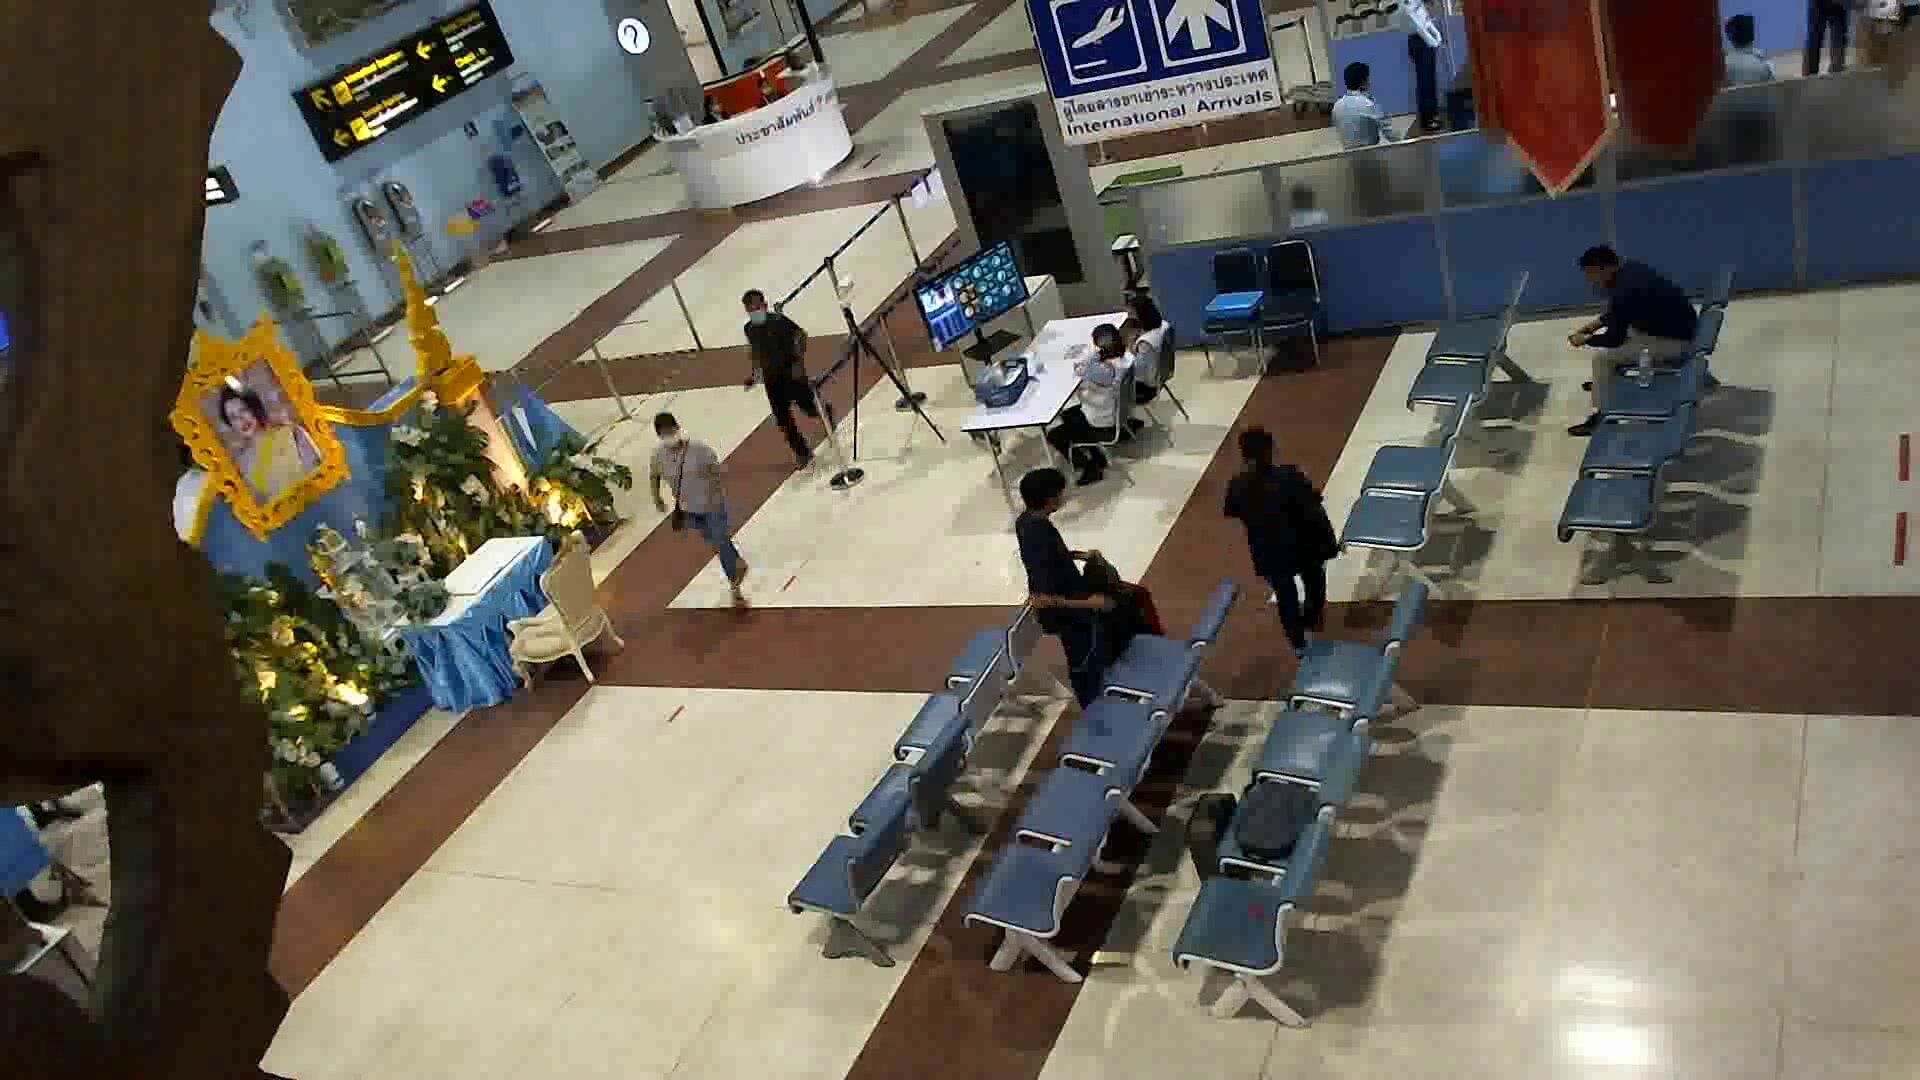backpack: (1233, 765, 1320, 863), (1078, 553, 1126, 599)
luggage: (1178, 786, 1256, 928), (1099, 576, 1164, 670)
people: (1218, 416, 1353, 665), (1568, 238, 1704, 455), (1004, 463, 1112, 734), (645, 405, 758, 630), (731, 278, 849, 474), (1043, 316, 1135, 484), (1116, 284, 1178, 405)
